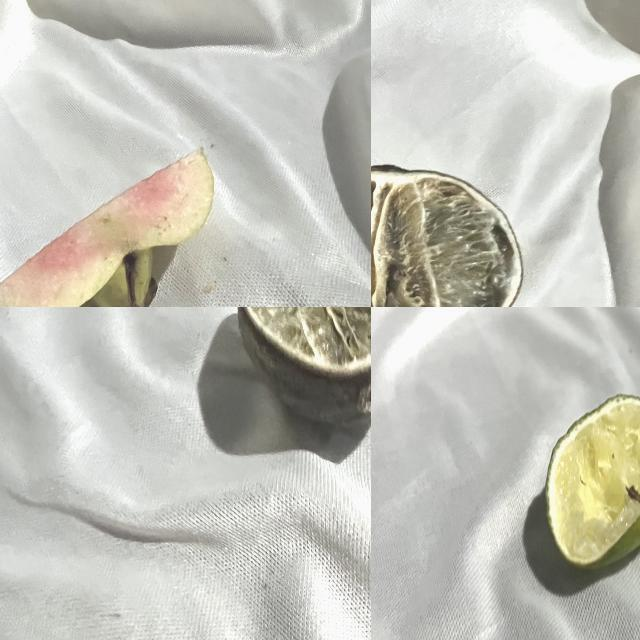Infectious: (369, 162, 523, 307), (544, 392, 639, 568), (236, 304, 371, 427)
Pathological: (1, 1, 373, 305)
Sharps: (0, 145, 215, 307)
